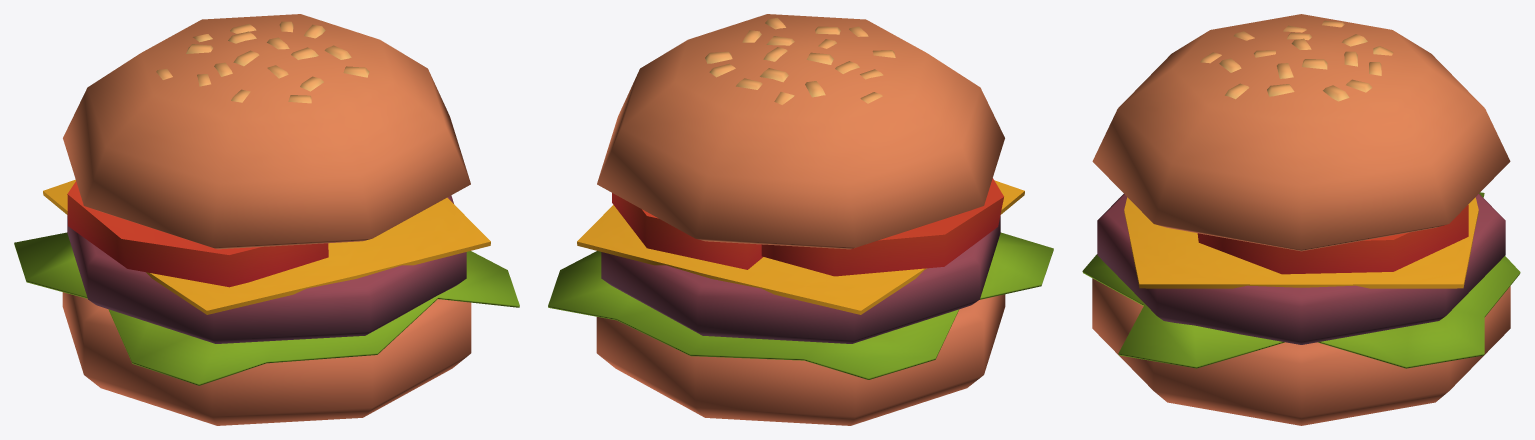
Rendered from HamburguerVar1.fbx.
3 views of the same model, side by side, from view 1: azimuth 30°, elevation 25°; view 2: azimuth 150°, elevation 25°; view 3: azimuth 270°, elevation 25° (orthographic).
Parts seen in each view (by area): view 1: HamburgerVar1; view 2: HamburgerVar1; view 3: HamburgerVar1.
Boxes of the visible parts, left/top/right/bottom form: HamburgerVar1: left=14, top=14, right=519, bottom=425; HamburgerVar1: left=548, top=14, right=1053, bottom=425; HamburgerVar1: left=1082, top=14, right=1520, bottom=425.
Size of the model in its own units: 0.2343 by 0.2393 by 0.1769.
